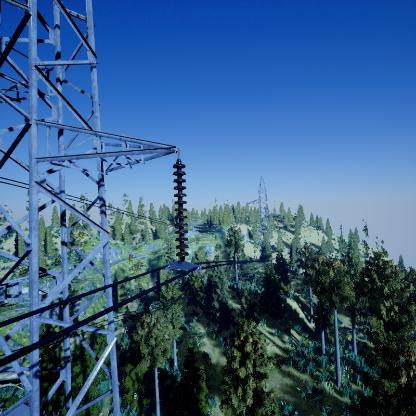insulator: (171, 161, 190, 261)
tower: (242, 177, 284, 263)
